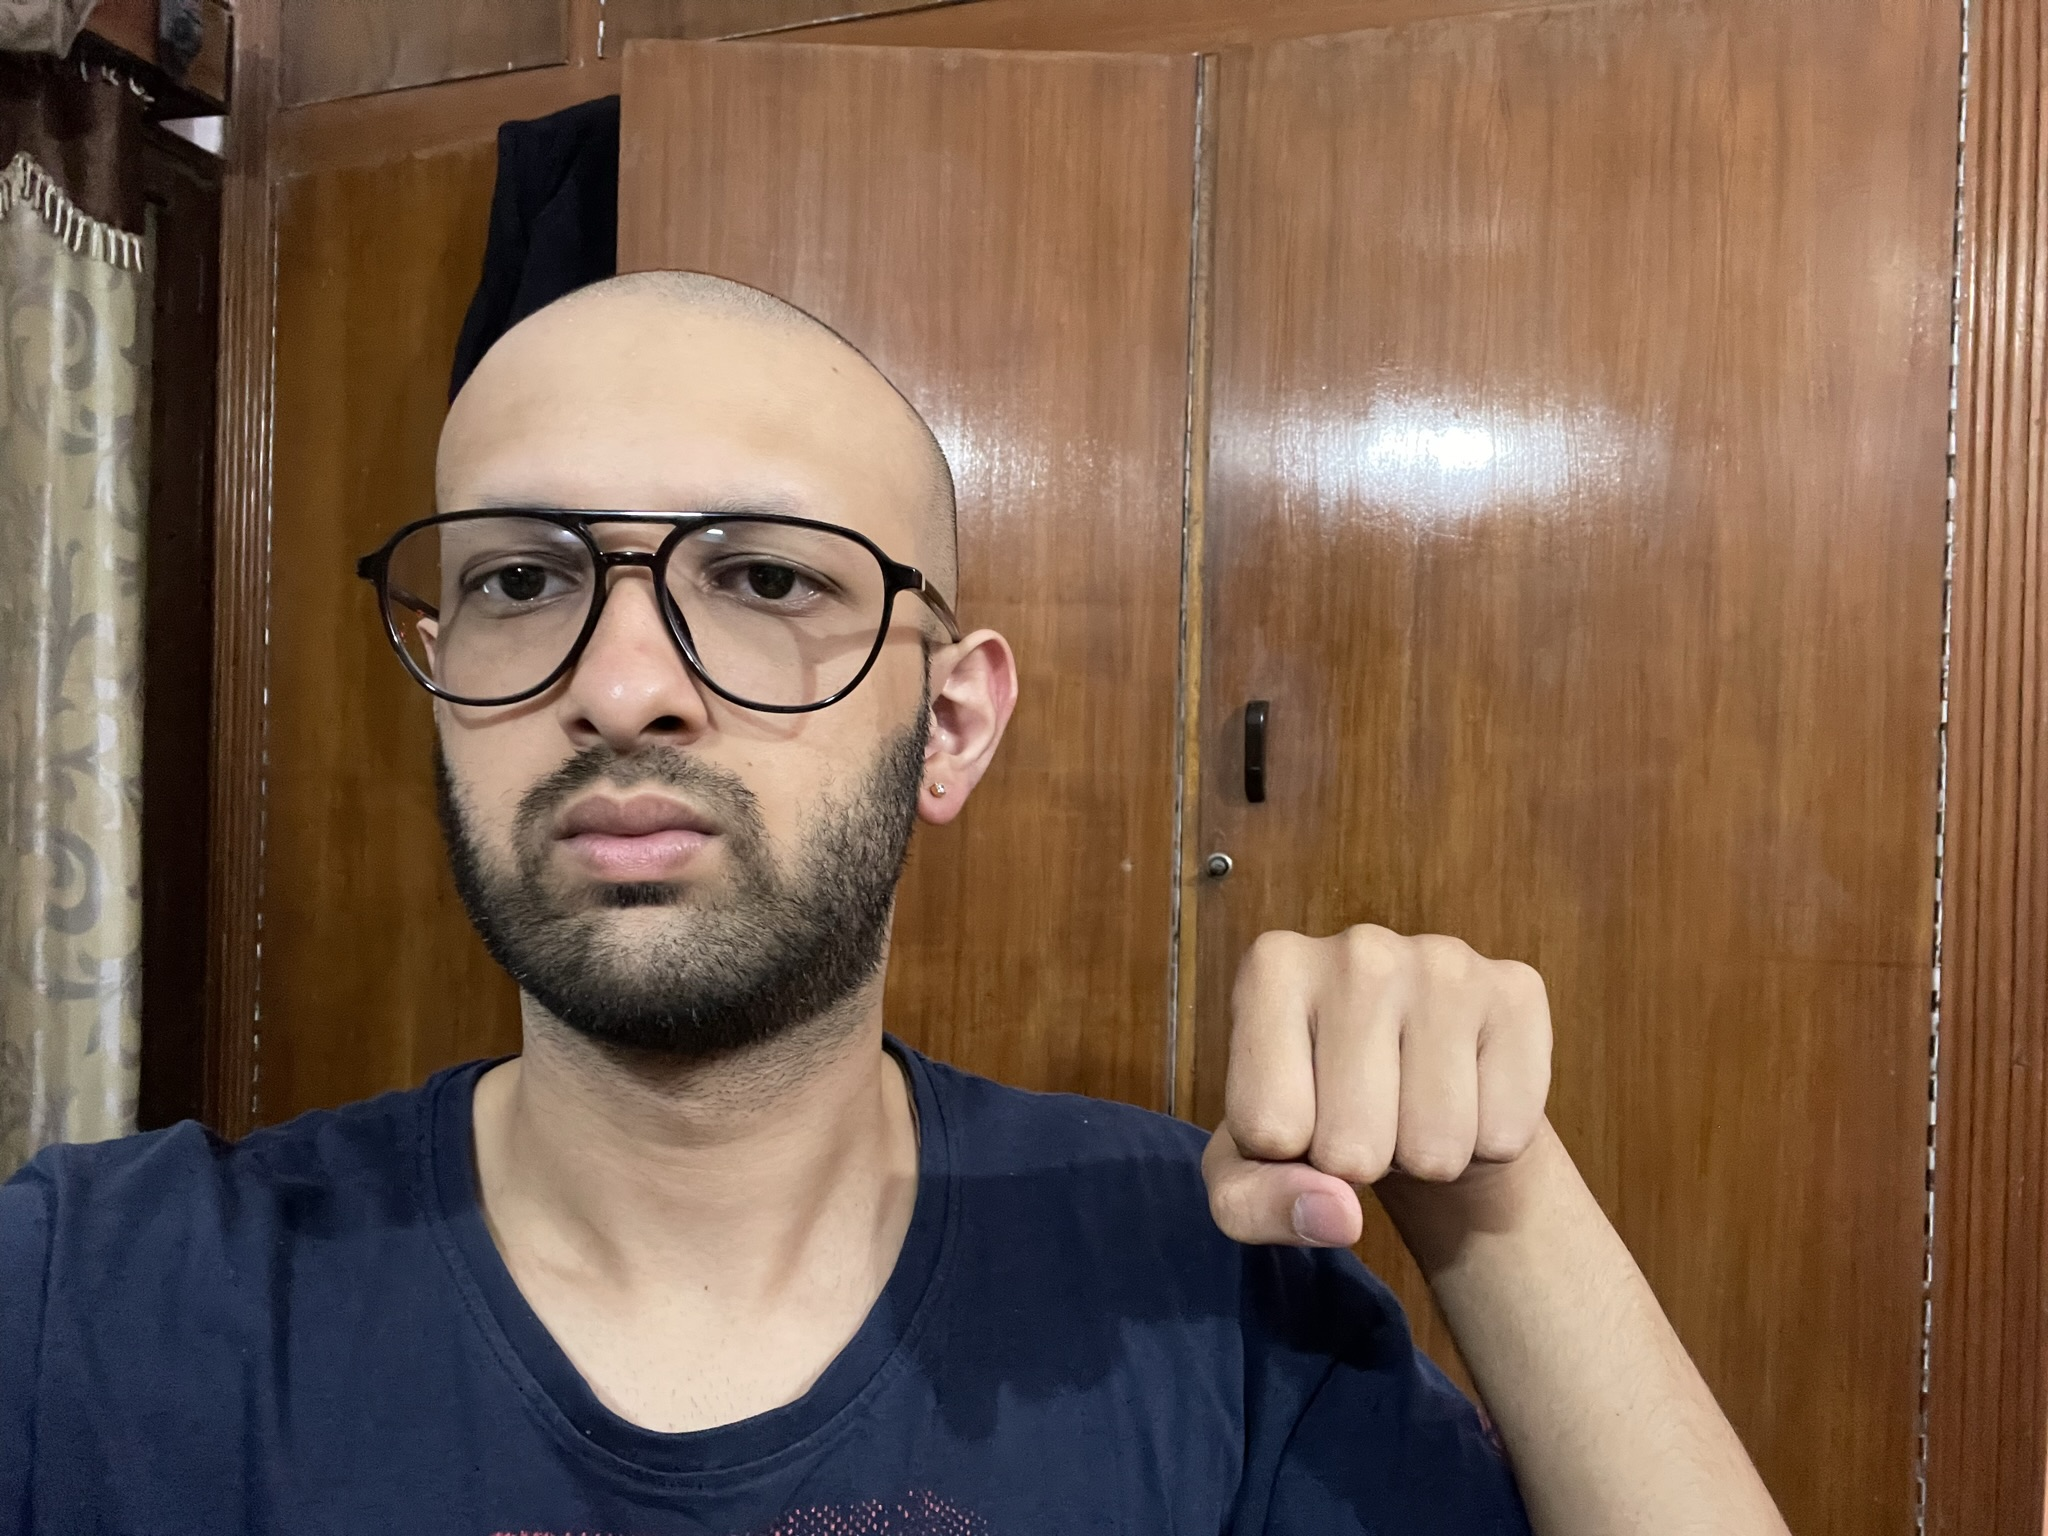Yes: (1193, 908, 1571, 1258)
